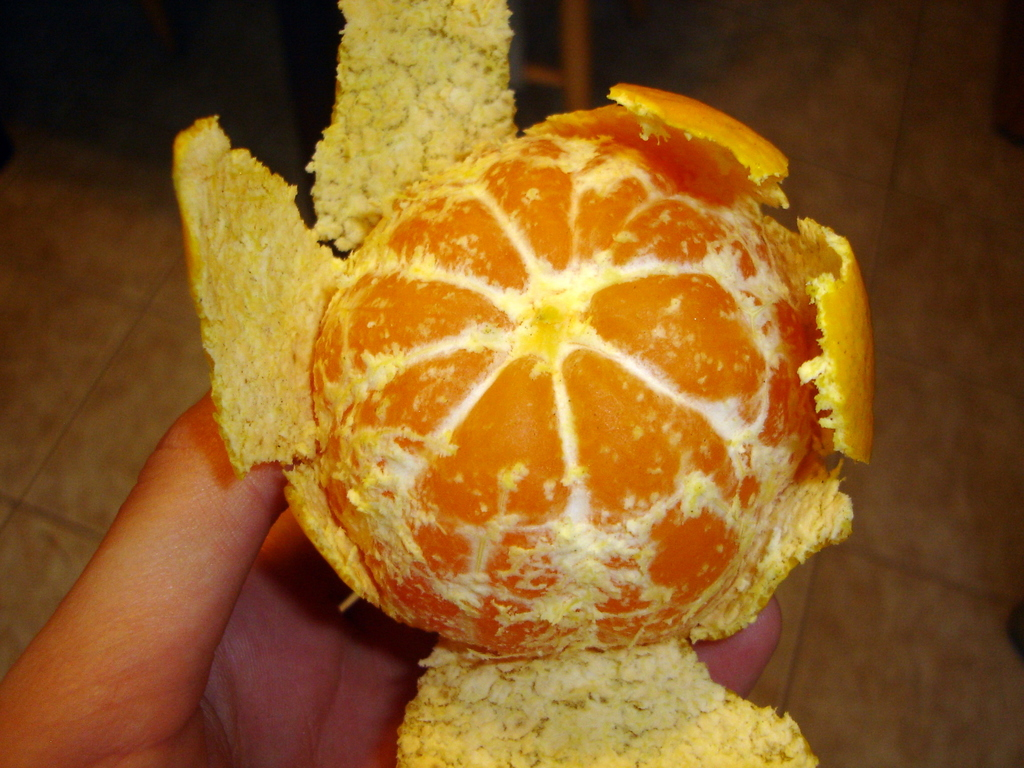Ripe: (166, 0, 875, 767)
